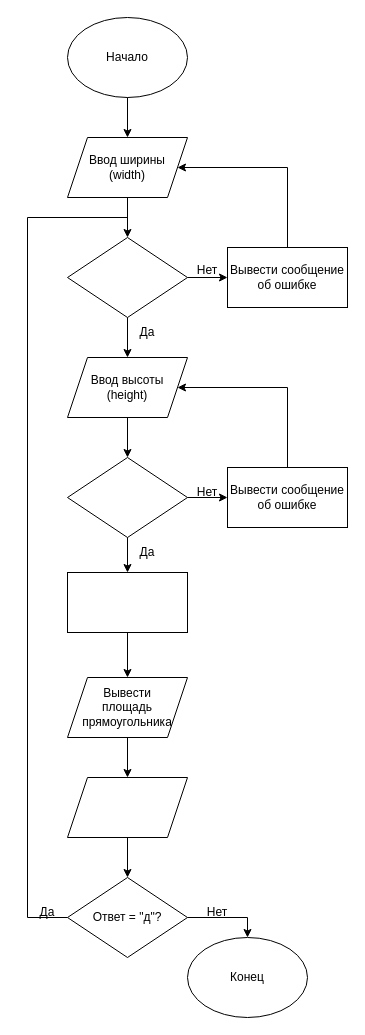
This 365x1035 diagram has some shape labels left out. The box of each missing label's shape, as (x1, y1, x2, y2) in pixels:
Высота корректна?: (66, 456, 188, 538)
Вычислить площадь S = width * height: (66, 572, 188, 632)
Спросить: Нужен еще один расчет? (д/н): (66, 776, 188, 838)
Ширина корректна?: (66, 236, 188, 318)
